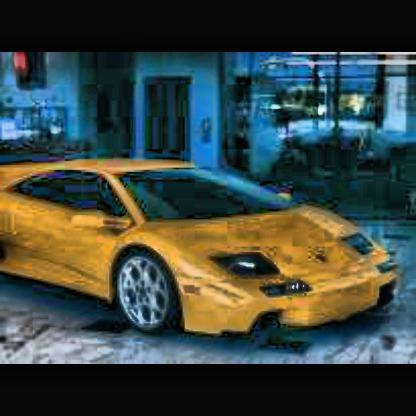Lamborghini Diablo Coupe 2001: (3, 151, 410, 351)
